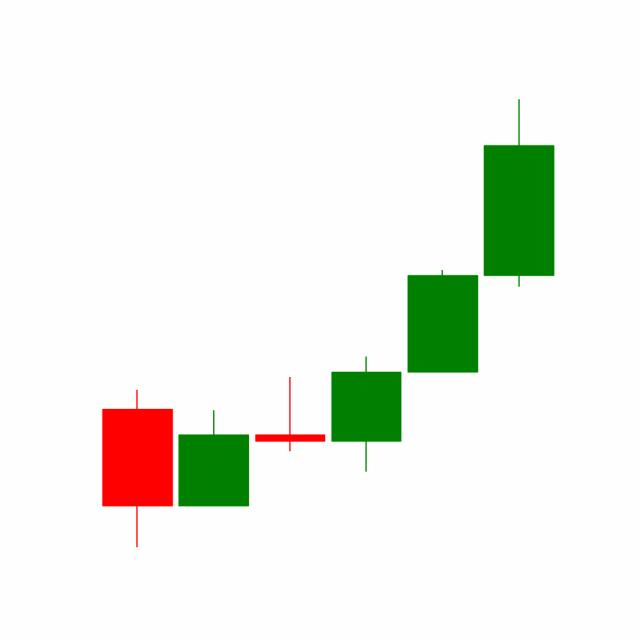Marubozu: (403, 268, 481, 373)
